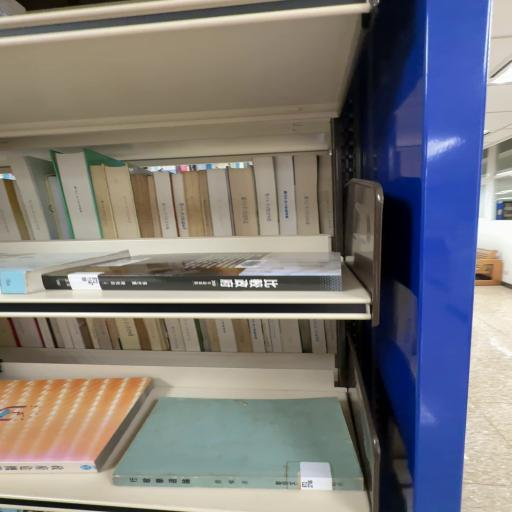flat: (114, 398, 365, 493), (44, 253, 342, 293)
